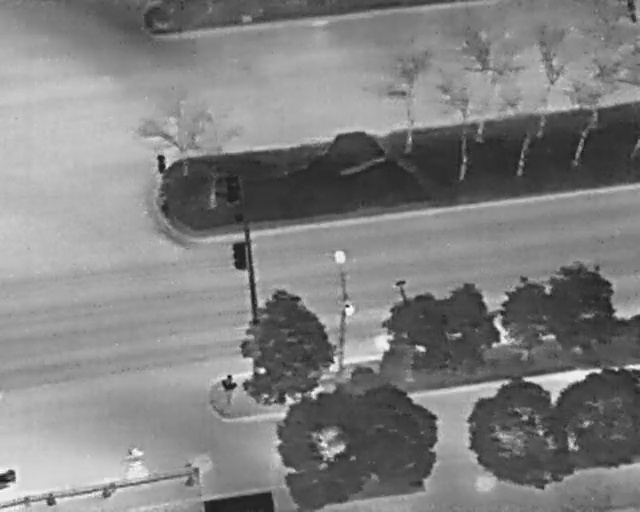Bicycle: (0, 467, 17, 489)
Person: (125, 447, 145, 479), (220, 374, 237, 408)
